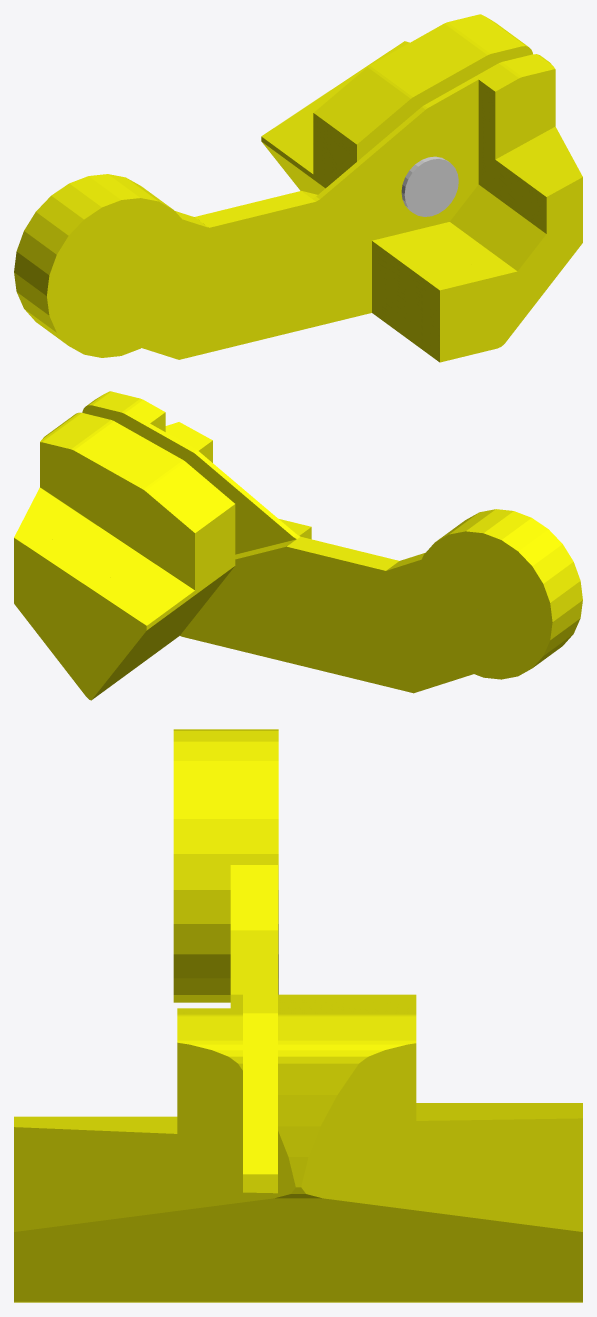
3 renders of one model, top to bottom at view 1: azimuth 30°, elevation 25°; view 2: azimuth 150°, elevation 25°; view 3: azimuth 270°, elevation 25°, orthographic. The views are drawn at different scales.
Parts seen in each view (by area): view 1: node; view 2: node; view 3: node.
Boxes of the visible parts, x1,y1,x2,y2 form: node: [14, 14, 582, 362]; node: [14, 391, 582, 700]; node: [14, 729, 582, 1302].
Bounding box in the file's own units: 973 × 380 × 570.
